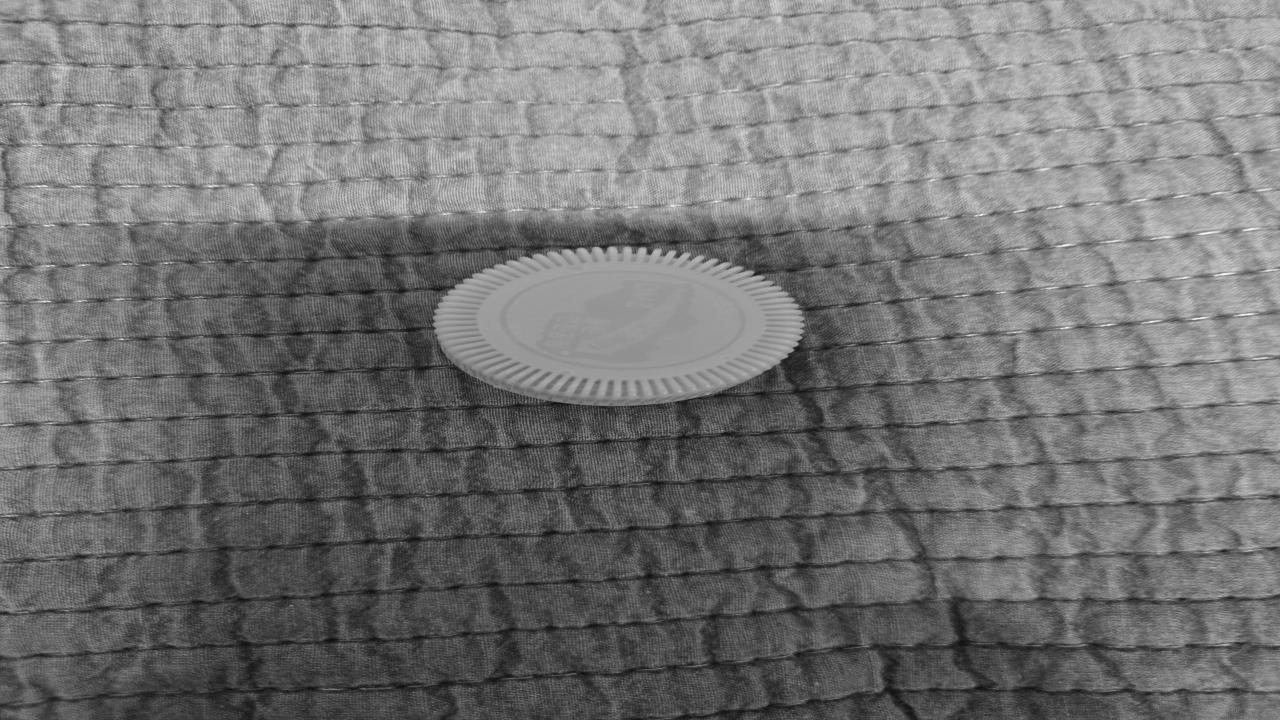bottle_cap: (435, 248, 800, 404)
